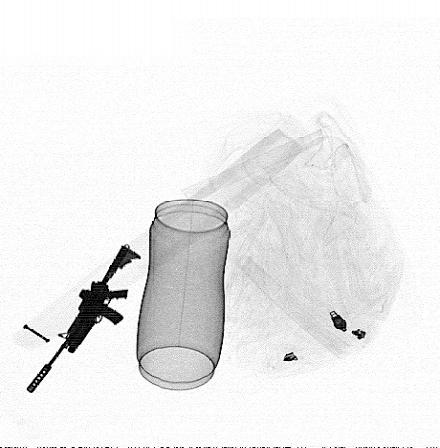Gun: (24, 244, 142, 397)
